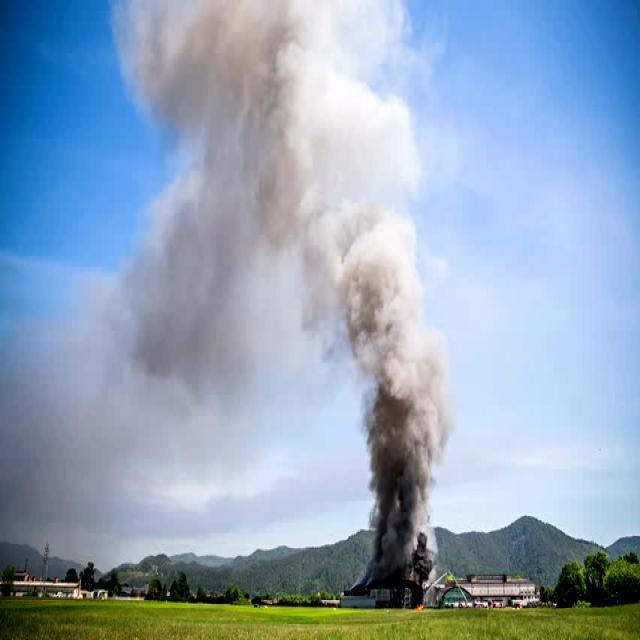Smoke: (76, 4, 396, 496), (316, 148, 450, 588)
